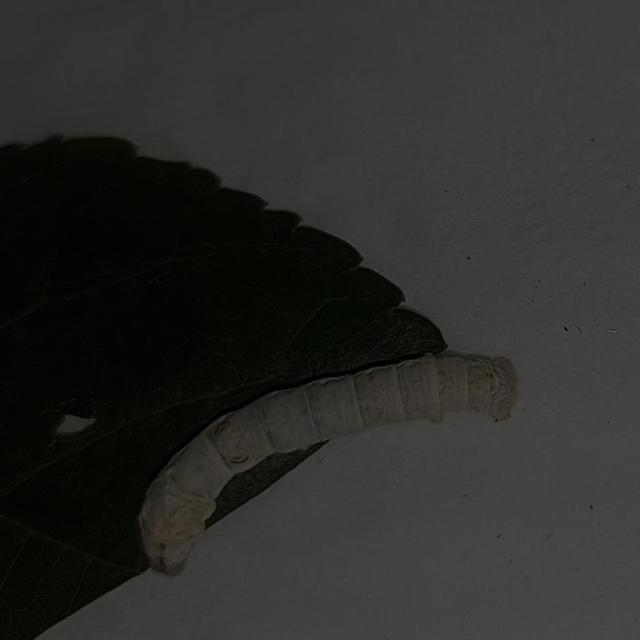Healthy: (127, 340, 520, 580)
